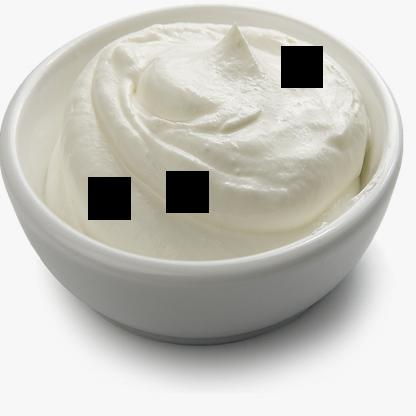yogurt: (37, 12, 388, 272)
